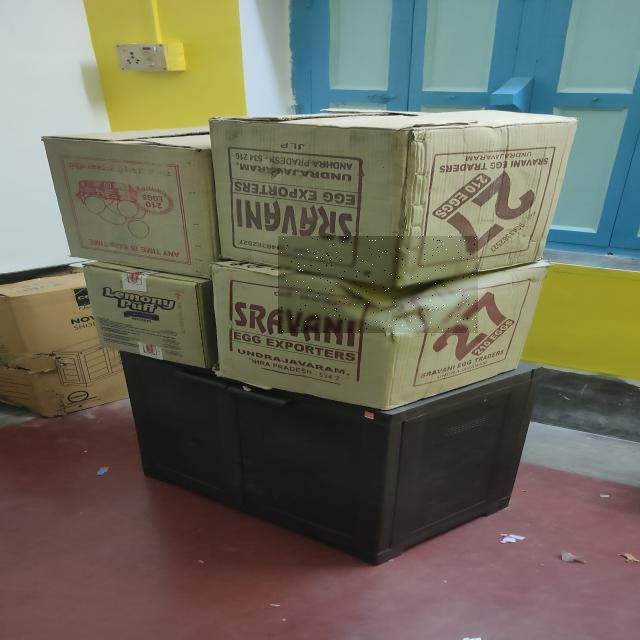tear: (279, 236, 478, 333)
